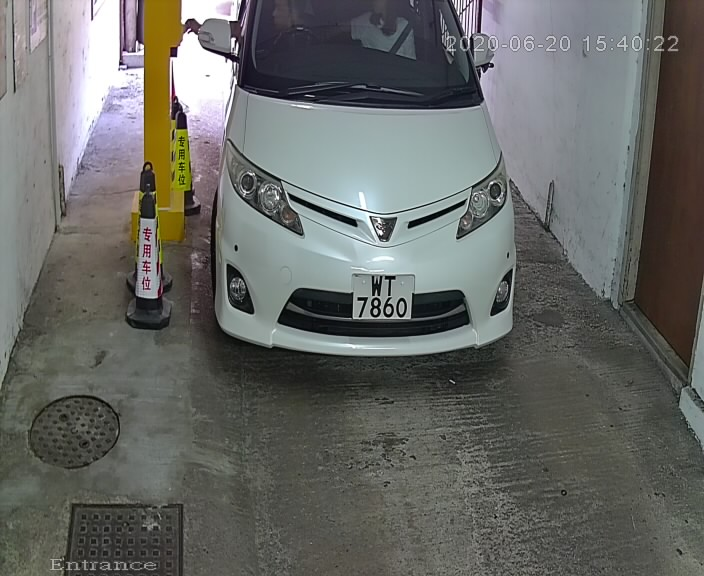privatecar: (191, 3, 534, 381)
